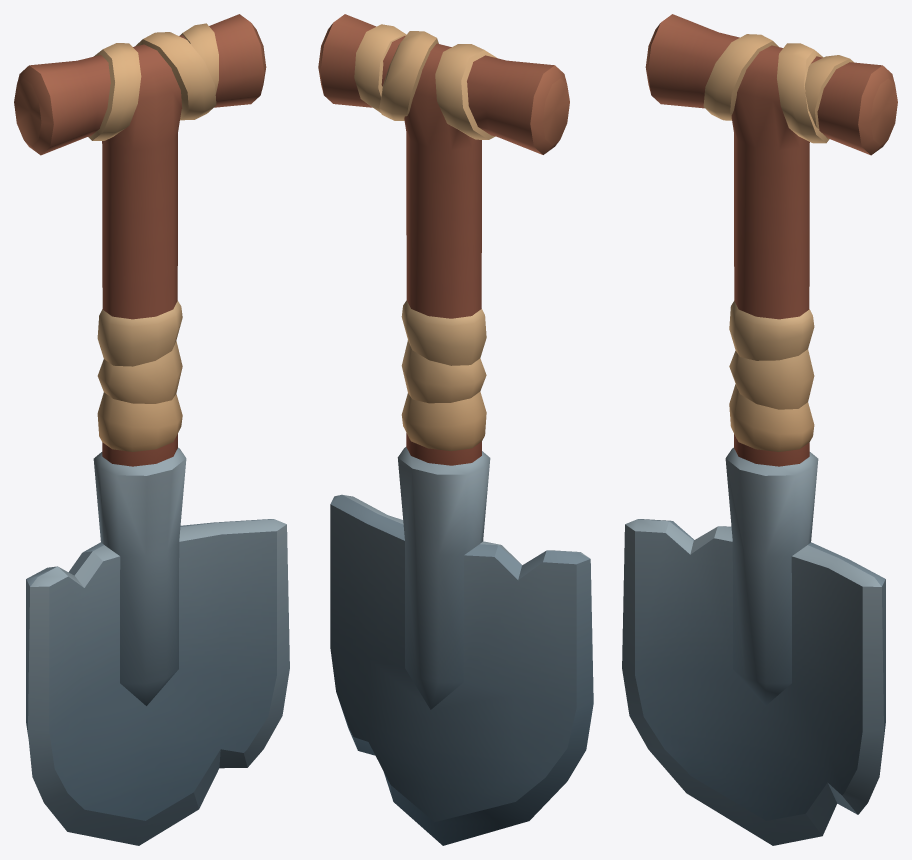
The model's file is shovel.obj.
3 views of the same model, side by side, from view 1: azimuth 30°, elevation 25°; view 2: azimuth 150°, elevation 25°; view 3: azimuth 330°, elevation 25° (orthographic).
Visible parts, largest first — view 1: shovel; view 2: shovel; view 3: shovel.
Part boxes in pixels (x1,y1,x2,y2): shovel: (14, 14, 289, 845); shovel: (318, 14, 593, 845); shovel: (622, 14, 897, 845).
Bounding box in the file's own units: 0.5381 × 1.58 × 0.1563.
Materials: 1 (1 with a texture image).
